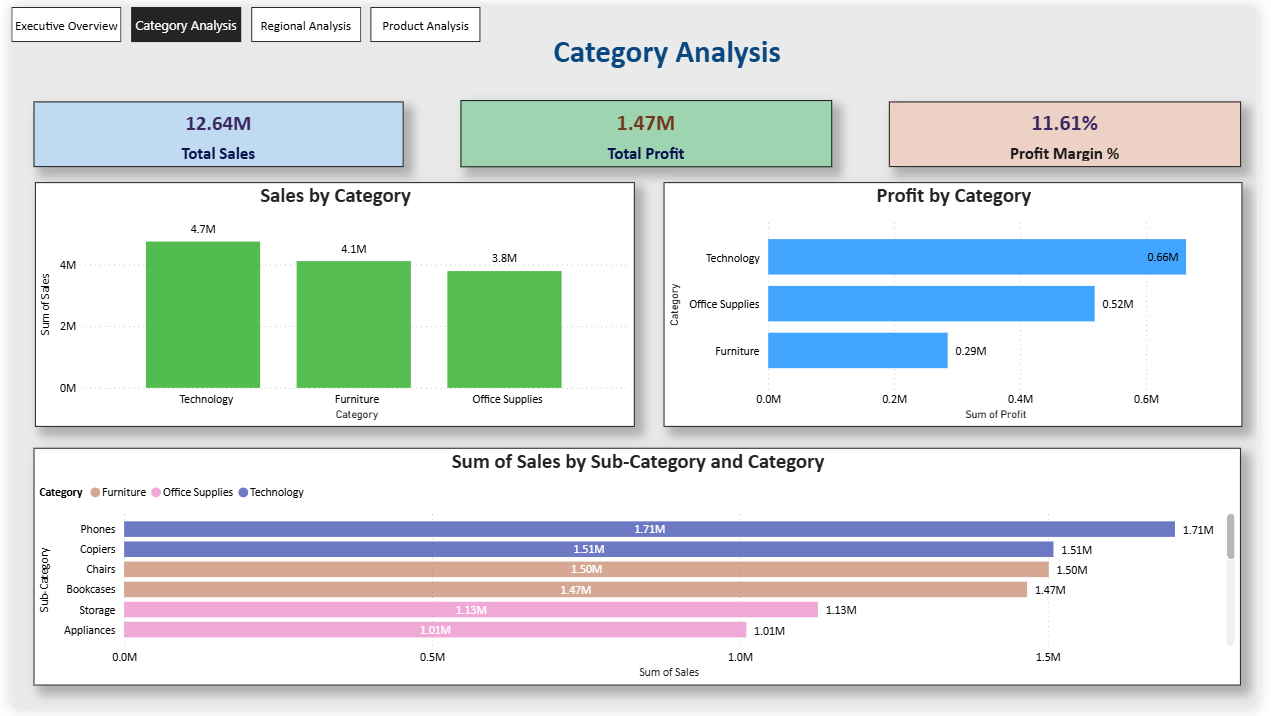

Layout of this report page (visuals, bound fields, positions):
{"tool":"powerbi","page":{"name":"Category Analysis","canvas":[1280,720],"ordinal":1},"visuals":[{"type":"card","fields":{"Values":["Sum(Orders.Sales)"]},"box":[22.9,97.1,380,67.1],"z":0},{"type":"textbox","box":[288.3,21.7,730,53.3],"z":1000},{"type":"card","fields":{"Values":["Sum(Orders.Profit)"]},"box":[461.4,95.7,381.4,68.6],"z":2000},{"type":"card","fields":{"Values":["Orders.Profit Margin %"]},"box":[901.4,97.1,361.4,67.1],"z":3000},{"type":"columnChart","title":"Sales by Category","fields":{"Category":["Orders.Category"],"Y":["Sum(Orders.Sales)"]},"box":[24.3,180,615.7,251.4],"z":4000},{"type":"clusteredBarChart","title":"Profit by Category","fields":{"Category":["Orders.Category"],"Y":["Sum(Orders.Profit)"]},"box":[670,180,594.3,251.4],"z":5000},{"type":"barChart","fields":{"Series":["Orders.Category"],"Category":["Orders.Sub-Category"],"Y":["Sum(Orders.Sales)"]},"box":[22.9,452.9,1240,244.3],"z":6000},{"type":"pageNavigator","box":[0,0,483.3,36.7],"z":6001}]}

Visuals, with their boxes in screenshot pixels (x1, y1, x2, y2), scaled from the page's 1280x720 canvas onto the 1271x716 screenshot:
card - Sum(Orders.Sales): 23/97/400/163
textbox: 286/22/1011/75
card - Sum(Orders.Profit): 458/95/837/163
card - Orders.Profit Margin %: 895/97/1254/163
"Sales by Category" columnChart: 24/179/636/429
"Profit by Category" clusteredBarChart: 665/179/1255/429
barChart - Orders.Category x Orders.Sub-Category: 23/450/1254/693
pageNavigator: 0/0/480/36
